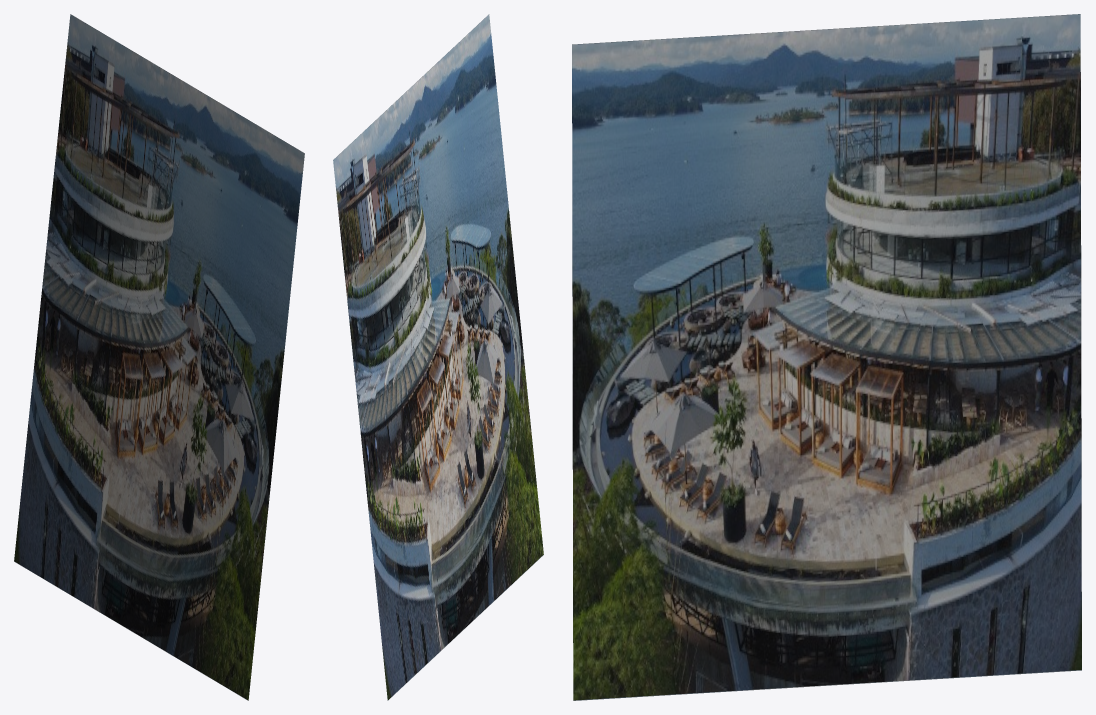
Rendered from Img_1.v20260629h.glb.
The picture shows the model from 3 angles, left to right: view 1: azimuth 30°, elevation 25°; view 2: azimuth 150°, elevation 25°; view 3: azimuth 270°, elevation 25°; orthographic projection. The views are drawn at different scales.
Visible parts, largest first — view 1: Plano; view 2: Plano; view 3: Plano.
Part boxes in pixels (bbox=[...]): Plano: bbox=[14, 14, 304, 700]; Plano: bbox=[333, 14, 543, 700]; Plano: bbox=[572, 14, 1081, 700].
Bounding box in the file's own units: 1.1 × 6.02 × 3.98.
Materials: 1 (1 with a texture image).
